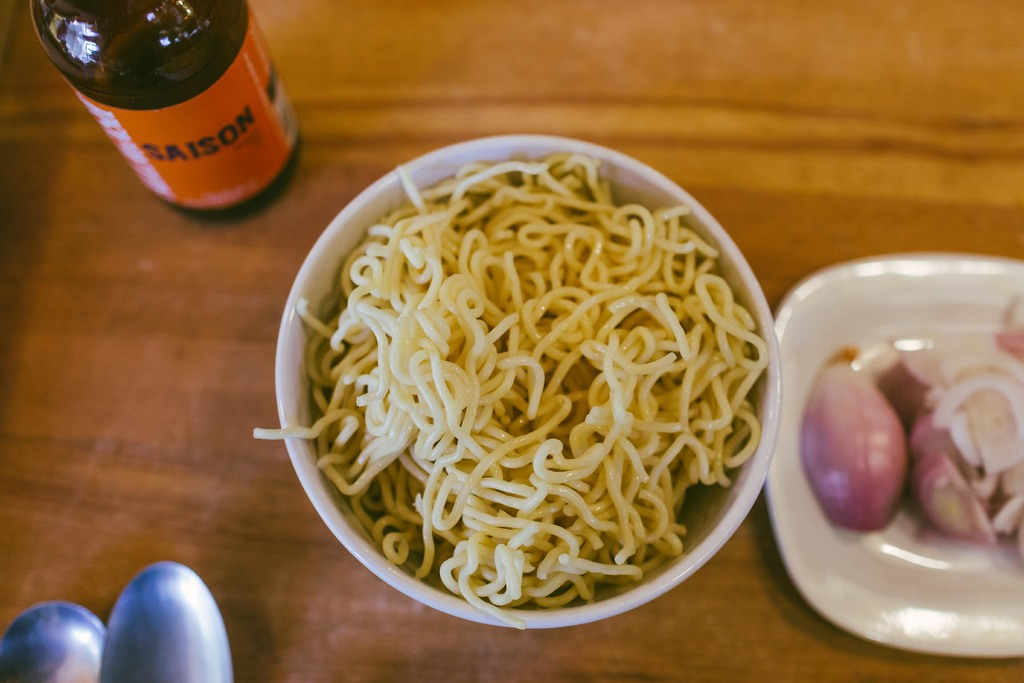pasta: (283, 131, 763, 627)
